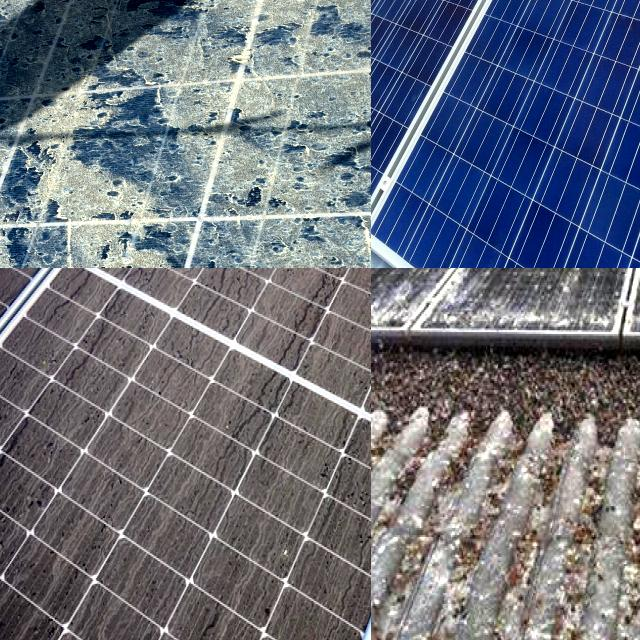bird: (438, 268, 497, 330), (371, 277, 417, 322), (371, 268, 384, 324)
crack: (371, 0, 640, 268), (371, 0, 594, 268), (371, 0, 518, 189), (505, 0, 640, 73), (466, 0, 574, 68)
dust: (25, 414, 204, 624), (245, 397, 356, 588), (46, 88, 210, 216), (83, 268, 244, 378), (256, 78, 371, 207), (48, 0, 233, 69), (257, 268, 371, 363), (0, 11, 43, 201), (0, 268, 59, 401), (198, 224, 371, 268), (265, 0, 371, 59), (0, 233, 169, 268)
